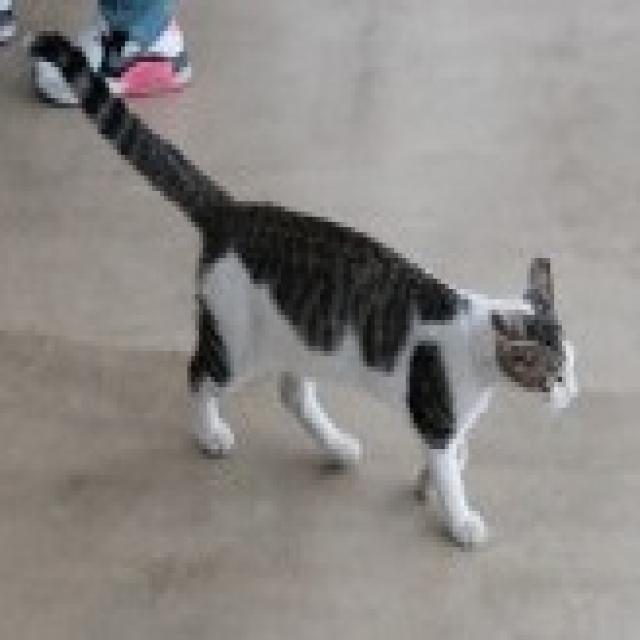cat: (20, 18, 588, 570)
